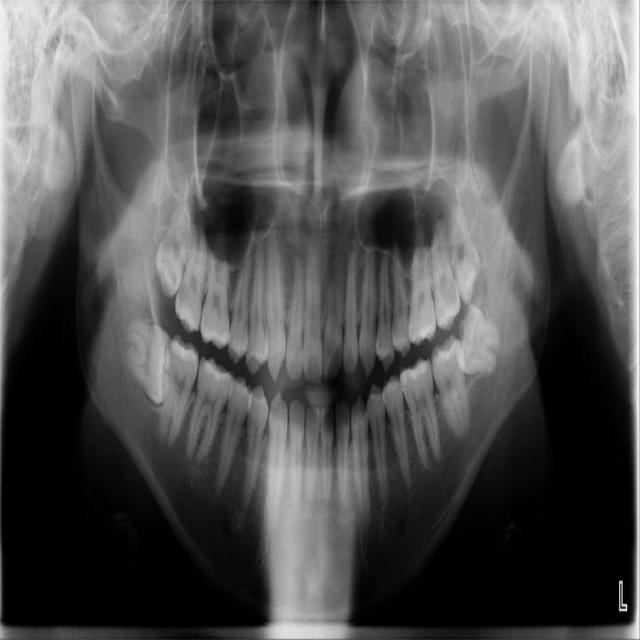3M ESPE Implant: (145, 201, 205, 300)
52: (185, 352, 241, 413), (162, 333, 202, 395), (398, 357, 436, 412), (224, 374, 257, 429)
73: (595, 570, 606, 576)
BioHorizons Implant: (427, 201, 462, 333)
BioLife Implant: (439, 189, 489, 306)
Biomet 3i Implant: (454, 303, 504, 377)
Blue Sky Bio Implant: (428, 333, 474, 442)
Caries: (172, 221, 212, 336)
Implant: (156, 332, 202, 449)
Keystone Dental Implant: (123, 317, 172, 405)
